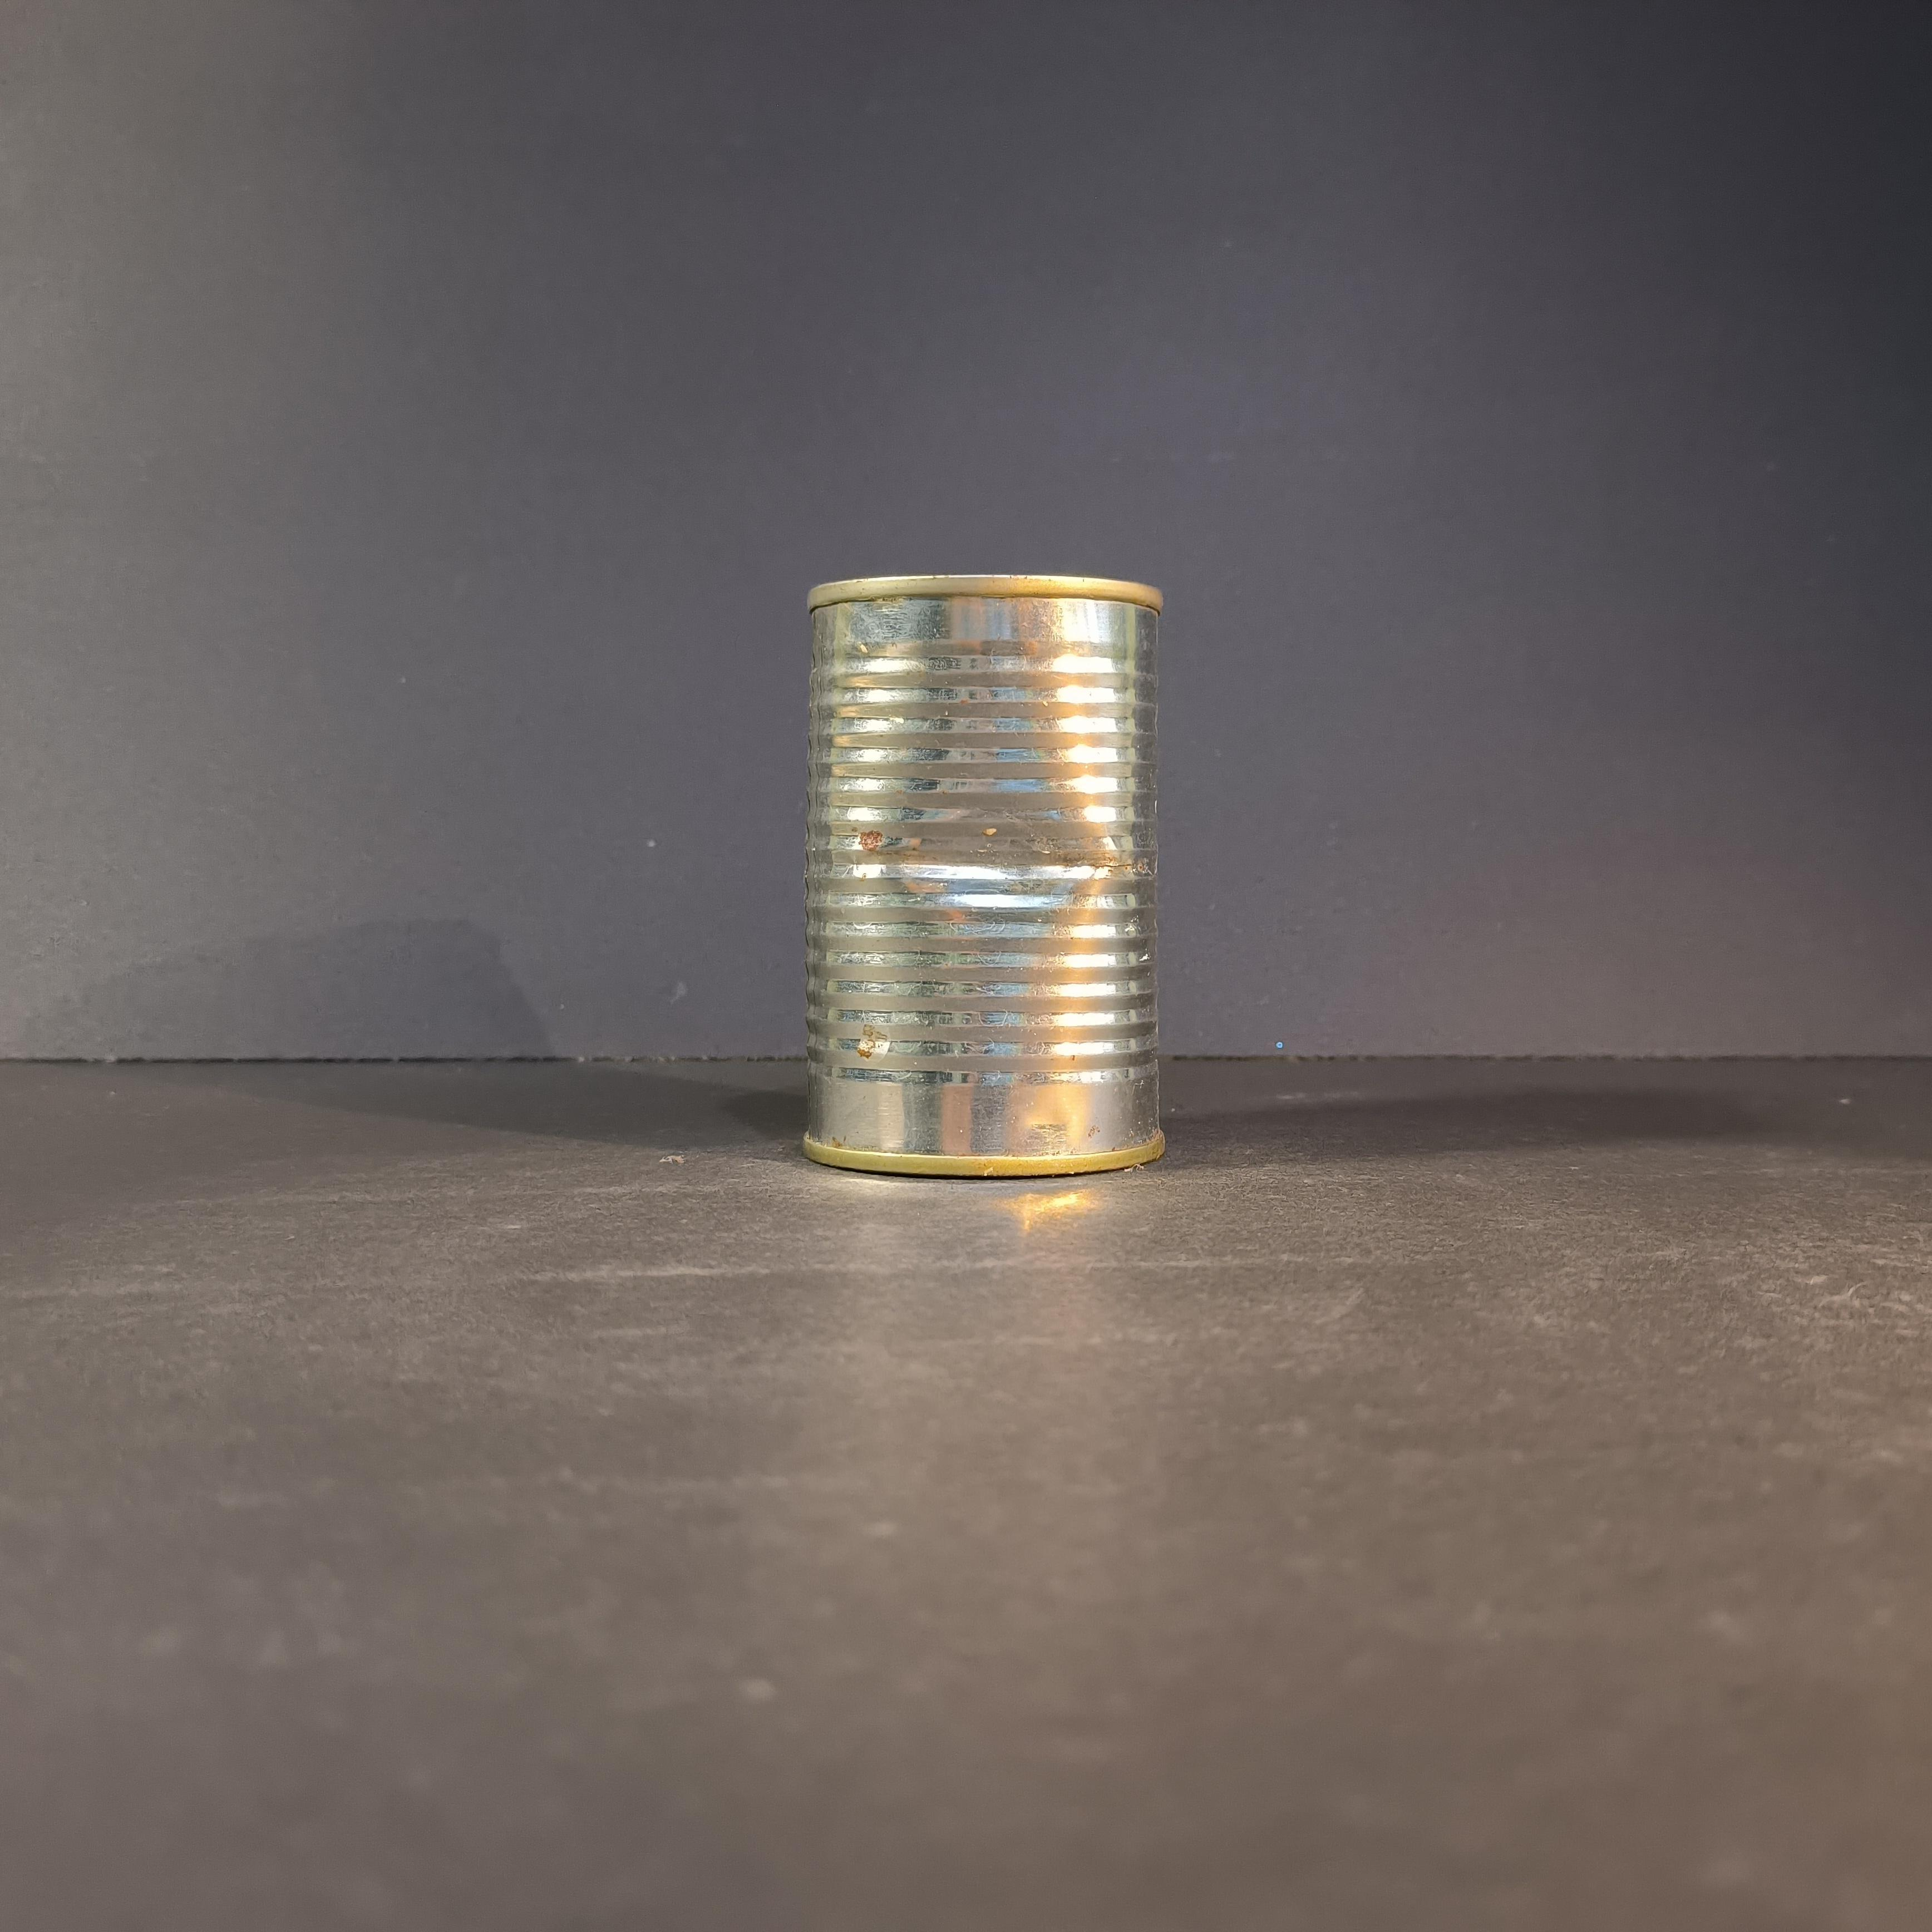Dented: (784, 543, 1196, 1207)
